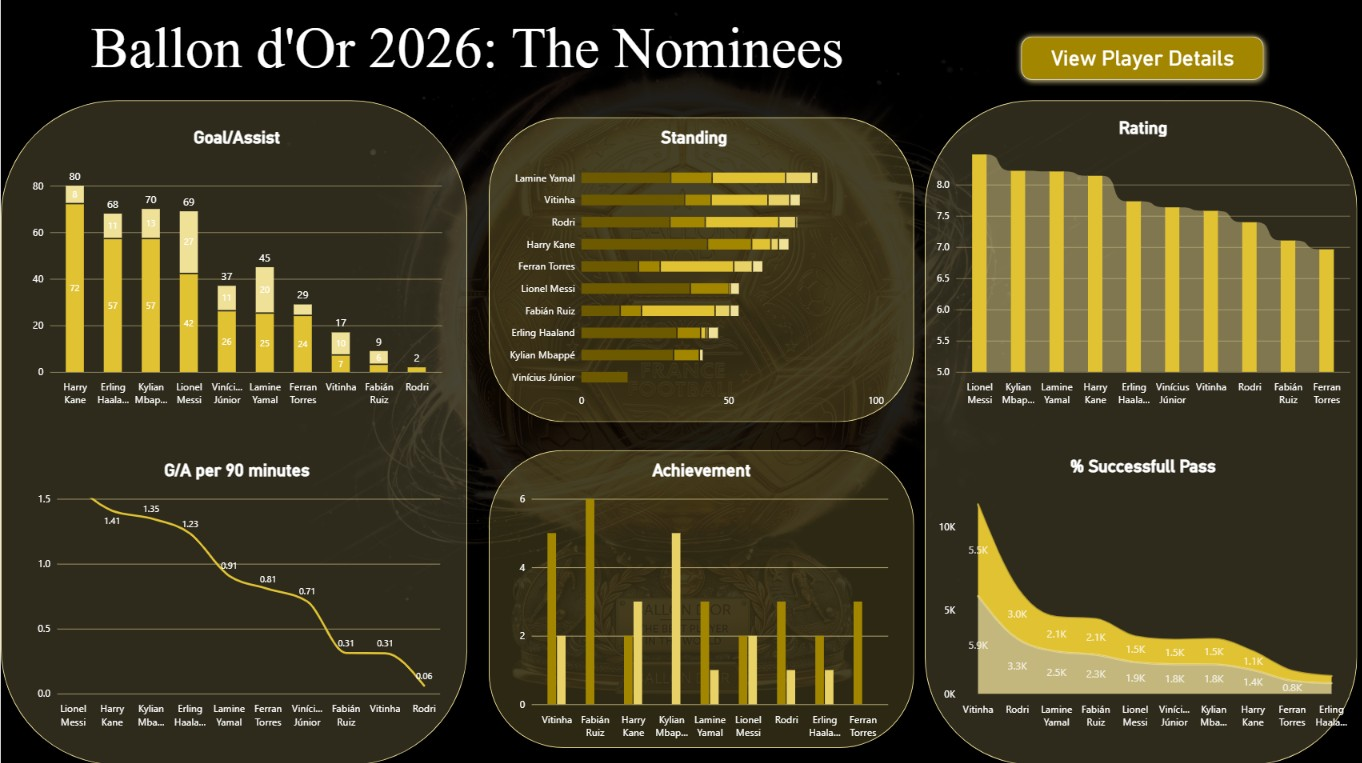

Layout of this report page (visuals, bound fields, positions):
{"tool":"powerbi","page":{"name":"All Candicate","canvas":[1920,1080],"ordinal":0},"visuals":[{"type":"shape","box":[688,166,600,430],"z":0},{"type":"shape","box":[688,636,600,420],"z":1000},{"type":"shape","box":[1304,142,610,938],"z":2000},{"type":"shape","box":[0,142,658,938],"z":3000},{"type":"columnChart","title":"Goal/Assist","fields":{"Category":["Candicates.PlayerName"],"Y":["Sum(CandidateSummary.Goals)","Sum(CandidateSummary.Assists)"]},"box":[28,166,610,426],"z":4000},{"type":"ribbonChart","title":"Rating","fields":{"Category":["Candicates.PlayerName"],"Y":["Sum(CandidateSummary.Rating)"]},"box":[1304,152,616,440],"z":5000},{"type":"stackedAreaChart","title":"% Successfull Pass","fields":{"Category":["Candicates.PlayerName"],"Y":["Sum(CandidateSummary.Pass Attempts)","Sum(CandidateSummary.Successful Passes)"]},"box":[1304,630,616,416],"z":6000},{"type":"lineChart","title":"G/A per 90 minutes","fields":{"Category":["Candicates.PlayerName"],"Y":["Sum(CandidateSummary.G/A per 90 minutes)"]},"box":[28,636,610,410],"z":7000},{"type":"barChart","title":"Standing","fields":{"Category":["Candicates.PlayerName"],"Series":["ScoreComponents.Component"],"Y":["CandidateSummary.Standing Component Value"]},"box":[694,166,568,430],"z":8000},{"type":"clusteredColumnChart","title":"Achievement","fields":{"Category":["AchievementsTable.PlayerName"],"Series":["AchievementsTable.Achievement Type"],"Y":["AchievementsTable.Verified Achievement Count"]},"box":[710,636,558,425],"z":9000},{"type":"actionButton","box":[1430.7,44.3,360,79.1],"z":10000},{"type":"textbox","box":[28.2,22.2,1259.4,127],"z":11000}]}

Visuals, with their boxes in screenshot pixels (x1, y1, x2, y2), scaled from the page's 1920x1080 canvas onto the 1362x763 screenshot:
shape: [x1=488, y1=117, x2=914, y2=421]
shape: [x1=488, y1=449, x2=914, y2=746]
shape: [x1=925, y1=100, x2=1358, y2=762]
shape: [x1=0, y1=100, x2=467, y2=762]
"Goal/Assist" columnChart: [x1=20, y1=117, x2=453, y2=418]
"Rating" ribbonChart: [x1=925, y1=107, x2=1361, y2=418]
"% Successfull Pass" stackedAreaChart: [x1=925, y1=445, x2=1361, y2=739]
"G/A per 90 minutes" lineChart: [x1=20, y1=449, x2=453, y2=739]
"Standing" barChart: [x1=492, y1=117, x2=895, y2=421]
"Achievement" clusteredColumnChart: [x1=504, y1=449, x2=899, y2=750]
actionButton: [x1=1015, y1=31, x2=1270, y2=87]
textbox: [x1=20, y1=16, x2=913, y2=105]
